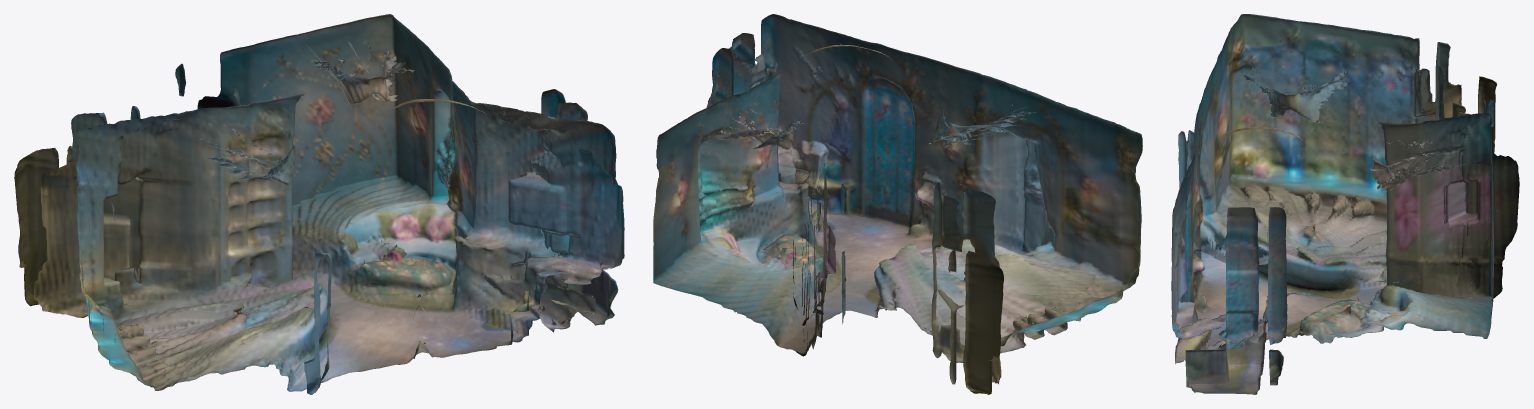
The model's file is waterlily-hollow_collider.glb.
The picture shows the model from 3 angles, left to right: view 1: azimuth 30°, elevation 25°; view 2: azimuth 150°, elevation 25°; view 3: azimuth 270°, elevation 25°; orthographic projection. The views are drawn at different scales.
Visible parts, largest first — view 1: world; view 2: world; view 3: world.
Boxes of the visible parts, x1,y1,x2,y2 form: world: (14, 14, 624, 394); world: (653, 14, 1142, 394); world: (1171, 14, 1519, 394).
Size of the model in its own units: 8.19 by 3.53 by 5.86.
